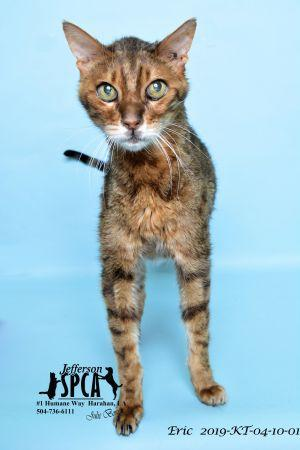bengal: (56, 12, 219, 164)
